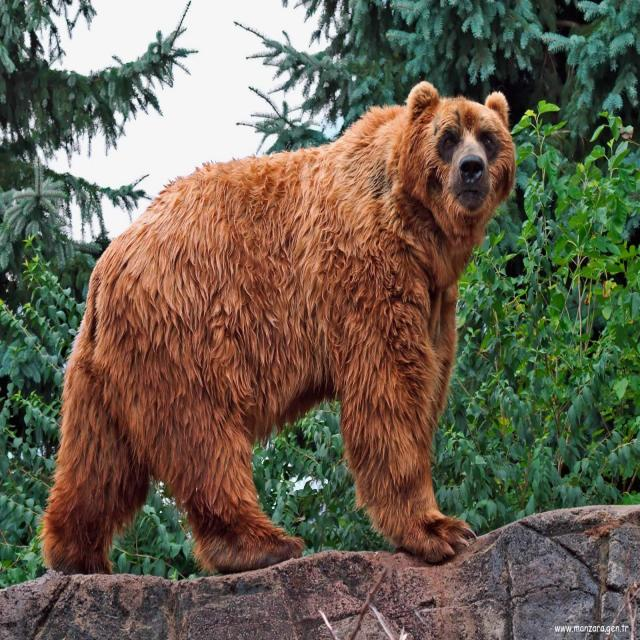Bear: (40, 83, 518, 578)
